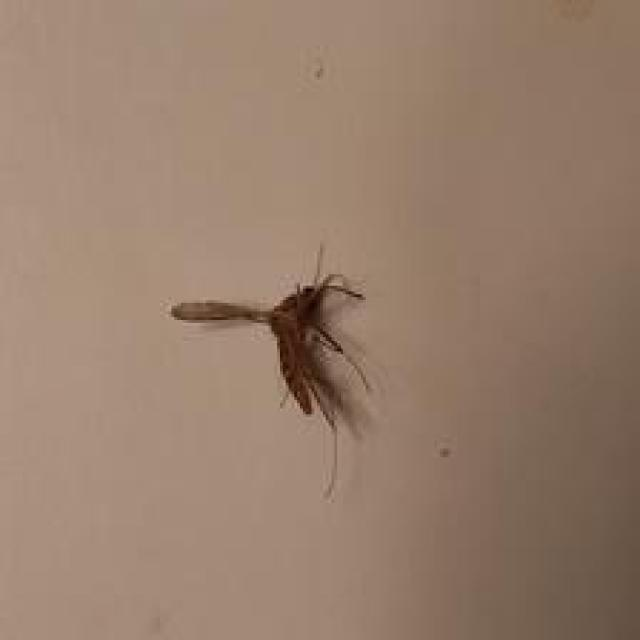Culex: (168, 240, 386, 503)
